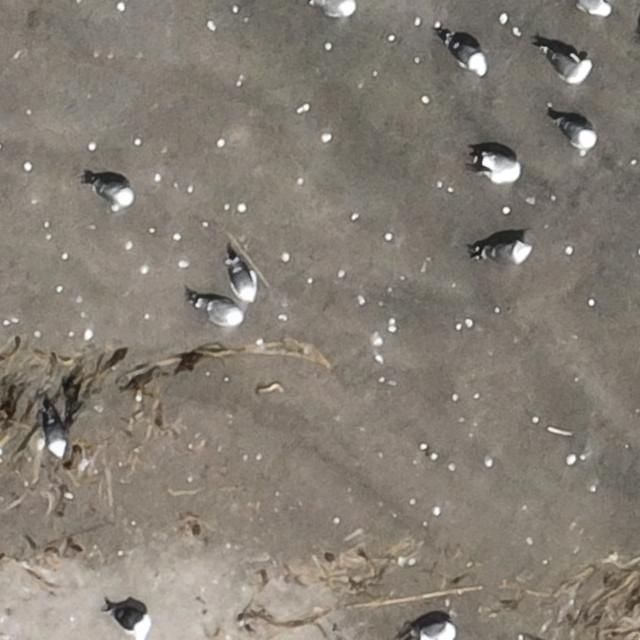umineko: (469, 144, 522, 183), (547, 50, 586, 80), (95, 179, 136, 206), (201, 299, 245, 324), (451, 40, 486, 71), (561, 120, 596, 148), (485, 242, 529, 264), (111, 607, 148, 632), (231, 263, 255, 298), (48, 421, 68, 457), (420, 622, 450, 640), (577, 0, 609, 16)
